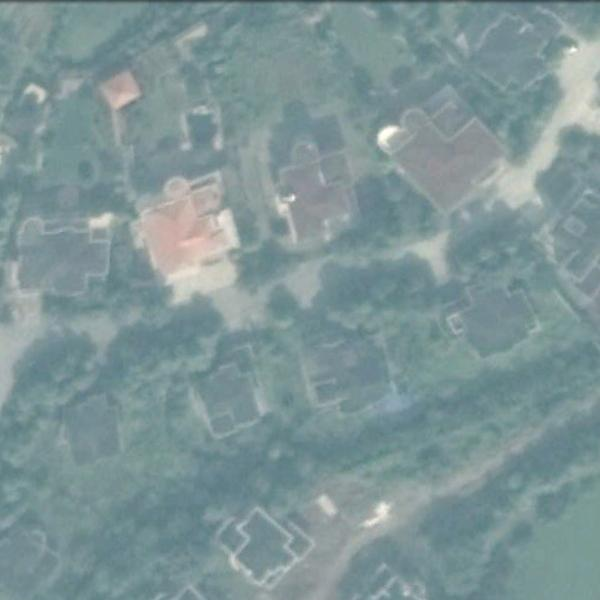Buildings: (385, 99, 513, 210), (305, 333, 398, 418), (269, 146, 354, 235), (144, 193, 234, 269), (475, 13, 556, 90), (453, 292, 536, 354), (22, 230, 103, 291), (62, 389, 125, 466), (204, 360, 255, 441), (565, 188, 600, 294), (225, 510, 288, 564), (99, 68, 145, 108), (362, 573, 428, 599)
